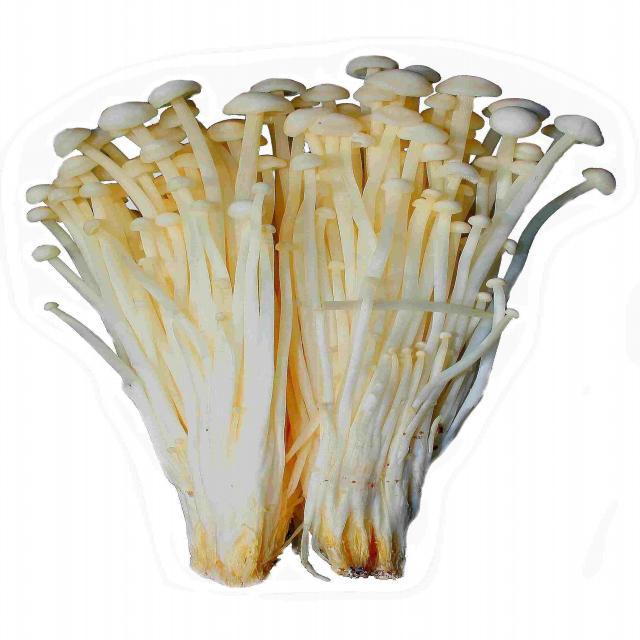Flammulina velutiper: (24, 56, 612, 587)
